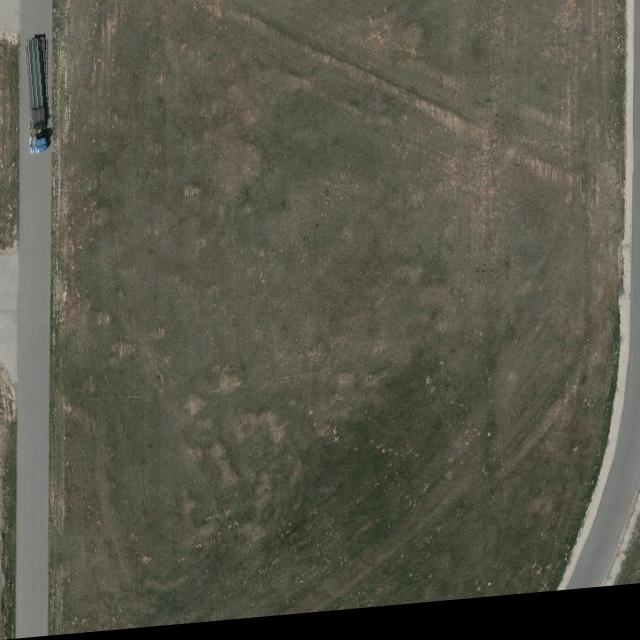vehicle: (26, 38, 52, 156)
